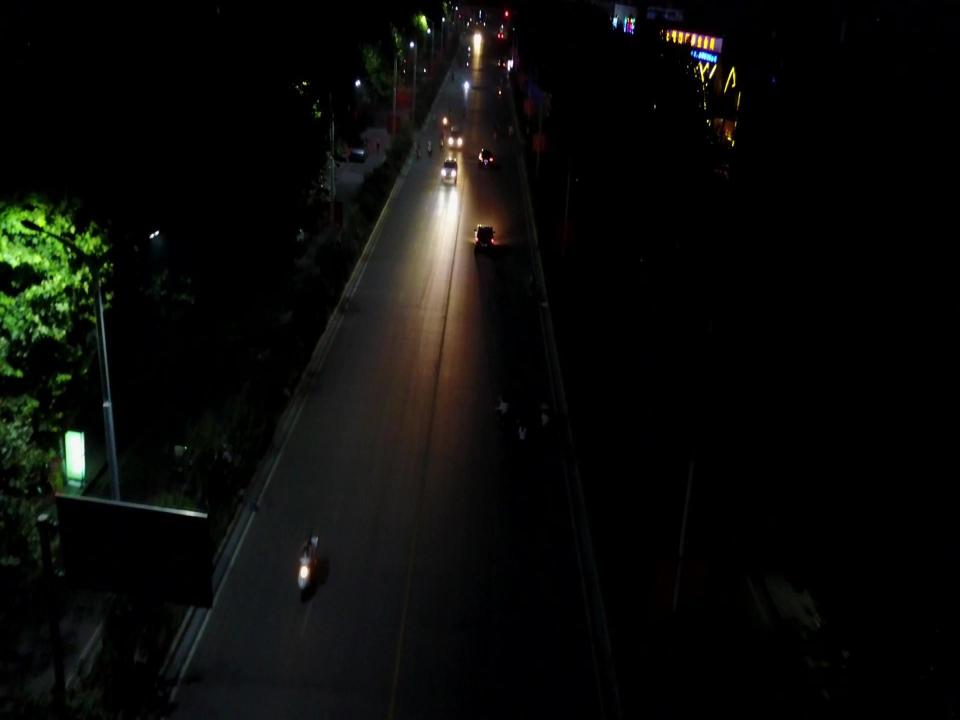car: (472, 223, 496, 257), (348, 132, 368, 163), (440, 155, 458, 185), (477, 148, 495, 171)
